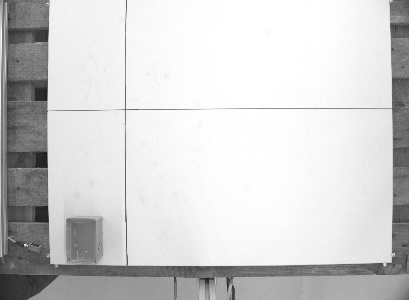kltxs: (63, 213, 106, 265)
